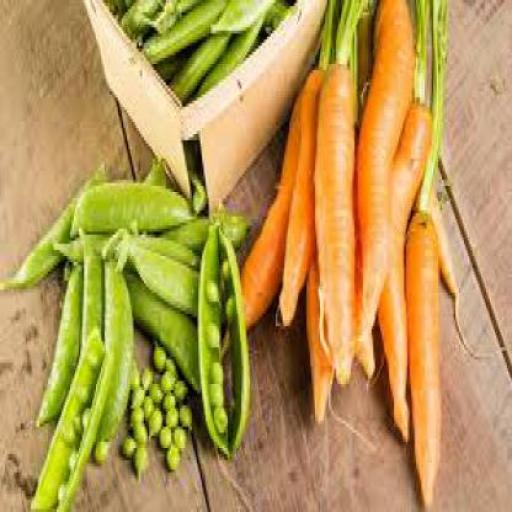biodegradable: (354, 0, 414, 375), (375, 97, 430, 442), (29, 325, 113, 509), (312, 58, 358, 388), (0, 161, 107, 287), (402, 207, 440, 509), (279, 64, 322, 326), (242, 101, 284, 332), (124, 265, 198, 390), (101, 222, 198, 317), (214, 216, 249, 457), (32, 259, 80, 427), (92, 256, 132, 448), (195, 223, 228, 454), (66, 177, 188, 238), (413, 180, 457, 341), (414, 0, 445, 210), (303, 238, 332, 424), (194, 18, 264, 95), (138, 0, 225, 55), (51, 234, 198, 266), (158, 214, 248, 259), (167, 33, 228, 95), (77, 228, 101, 360), (207, 0, 274, 28), (334, 0, 366, 58), (141, 0, 199, 28), (410, 0, 426, 97), (116, 0, 160, 33), (315, 0, 337, 64), (142, 152, 164, 189), (263, 0, 290, 28), (188, 168, 202, 207), (132, 445, 145, 478), (164, 441, 178, 470), (207, 377, 221, 406), (92, 436, 108, 460), (146, 405, 159, 433), (147, 377, 159, 406), (224, 289, 235, 320), (118, 433, 132, 457), (204, 274, 216, 302), (156, 423, 169, 448), (132, 420, 145, 445), (206, 319, 217, 348), (177, 403, 190, 427), (212, 405, 225, 429), (152, 341, 162, 372), (171, 424, 185, 446), (173, 375, 185, 399), (159, 368, 172, 390), (63, 424, 76, 446), (141, 393, 151, 421), (130, 384, 141, 406), (138, 366, 151, 384), (127, 406, 140, 424), (161, 390, 173, 409), (209, 359, 221, 378), (128, 362, 138, 384), (78, 384, 88, 406), (162, 356, 175, 372), (67, 448, 75, 473), (164, 406, 174, 424), (79, 408, 87, 430), (219, 259, 228, 278), (71, 411, 79, 430), (55, 481, 63, 500), (87, 350, 96, 366)
cardboard: (181, 0, 324, 202), (89, 0, 187, 192)
